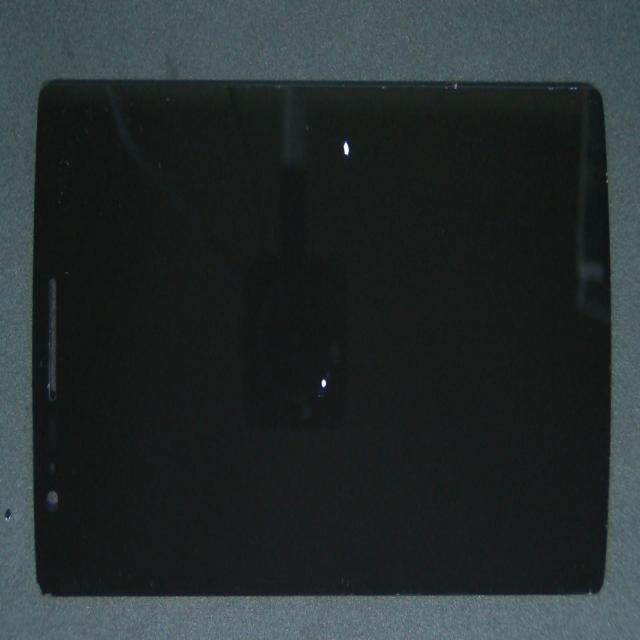stain: (173, 144, 473, 539), (178, 9, 505, 199)
